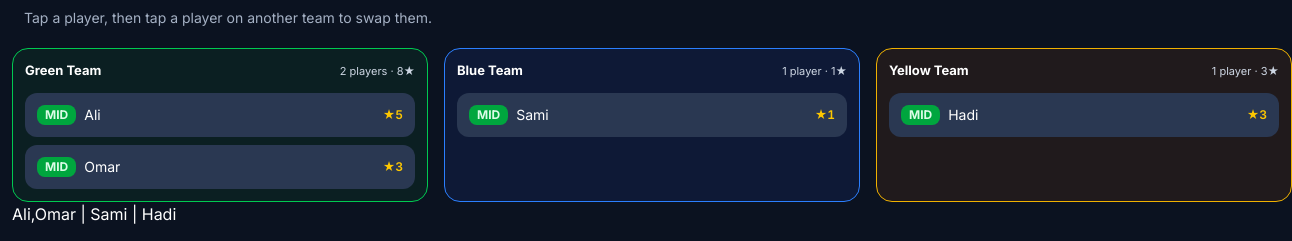
Test case: tapping the selected player again cancels the selection
Click the button "MID Ali ★5". click: (57, 114)
box: [25,92,415,136]
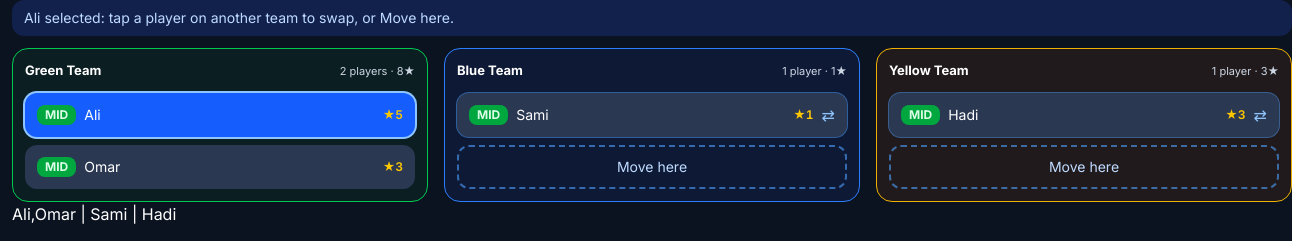
Click the button "MID Ali ★5". click: (57, 114)
box: [25,92,415,136]
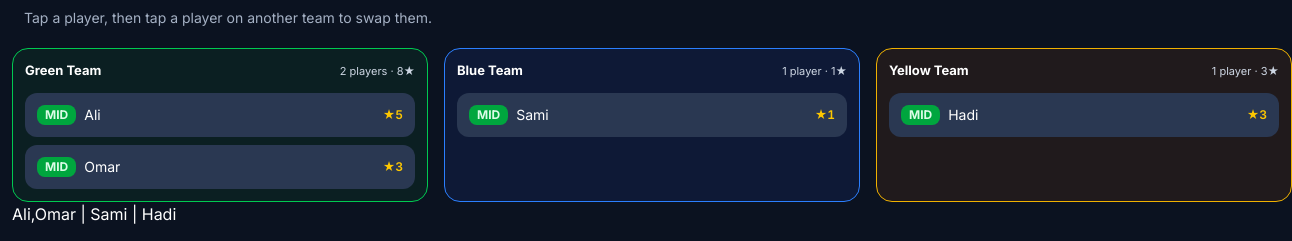
Now the text "Move here" is gone
